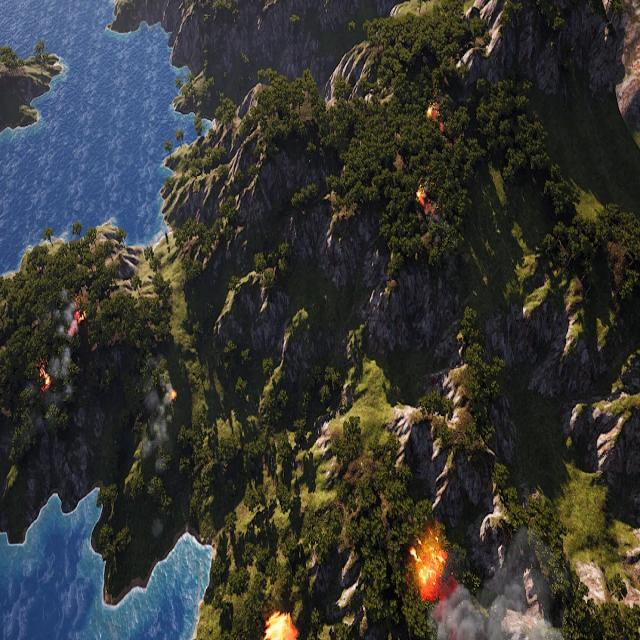fire: (413, 536, 447, 600), (263, 613, 296, 640), (428, 99, 445, 138), (71, 305, 87, 338), (416, 187, 432, 214), (40, 370, 54, 392), (166, 383, 176, 403)
smoke: (426, 531, 570, 640), (48, 284, 80, 404), (141, 386, 176, 473)
